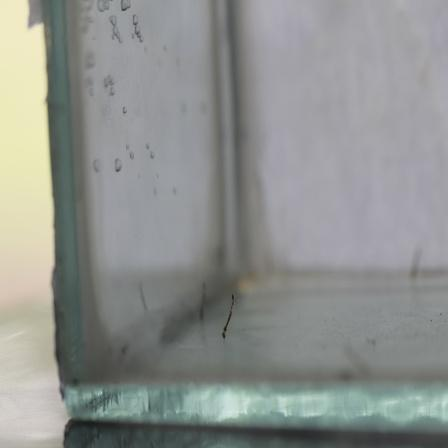Jentik-Nyamuk: (217, 290, 243, 348)
